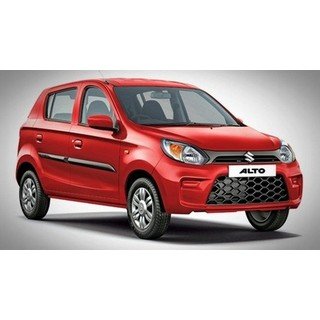car: (15, 76, 304, 240)
